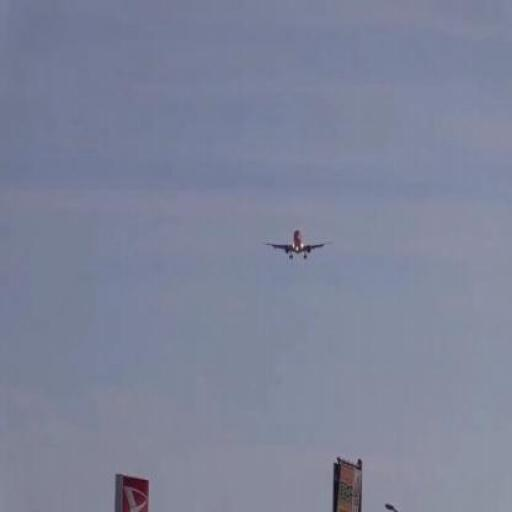aircraft: (265, 230, 331, 261)
